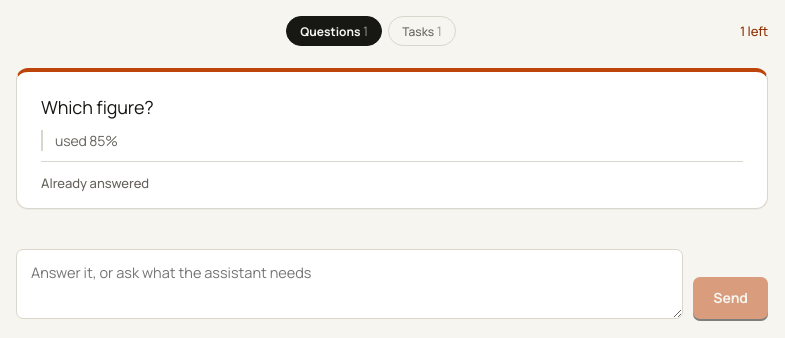
it: survives its own list going empty
The image size is (785, 338).
Click the button "Already answered". click: [95, 183]
box: [41,172,149,194]
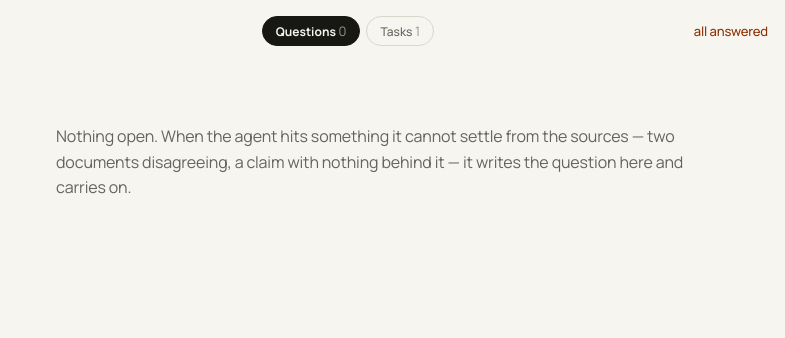
Now the text "all answered" is shown, box [694,22,768,40]
Now the text "Nothing open" is shown, box [56,125,683,198]
